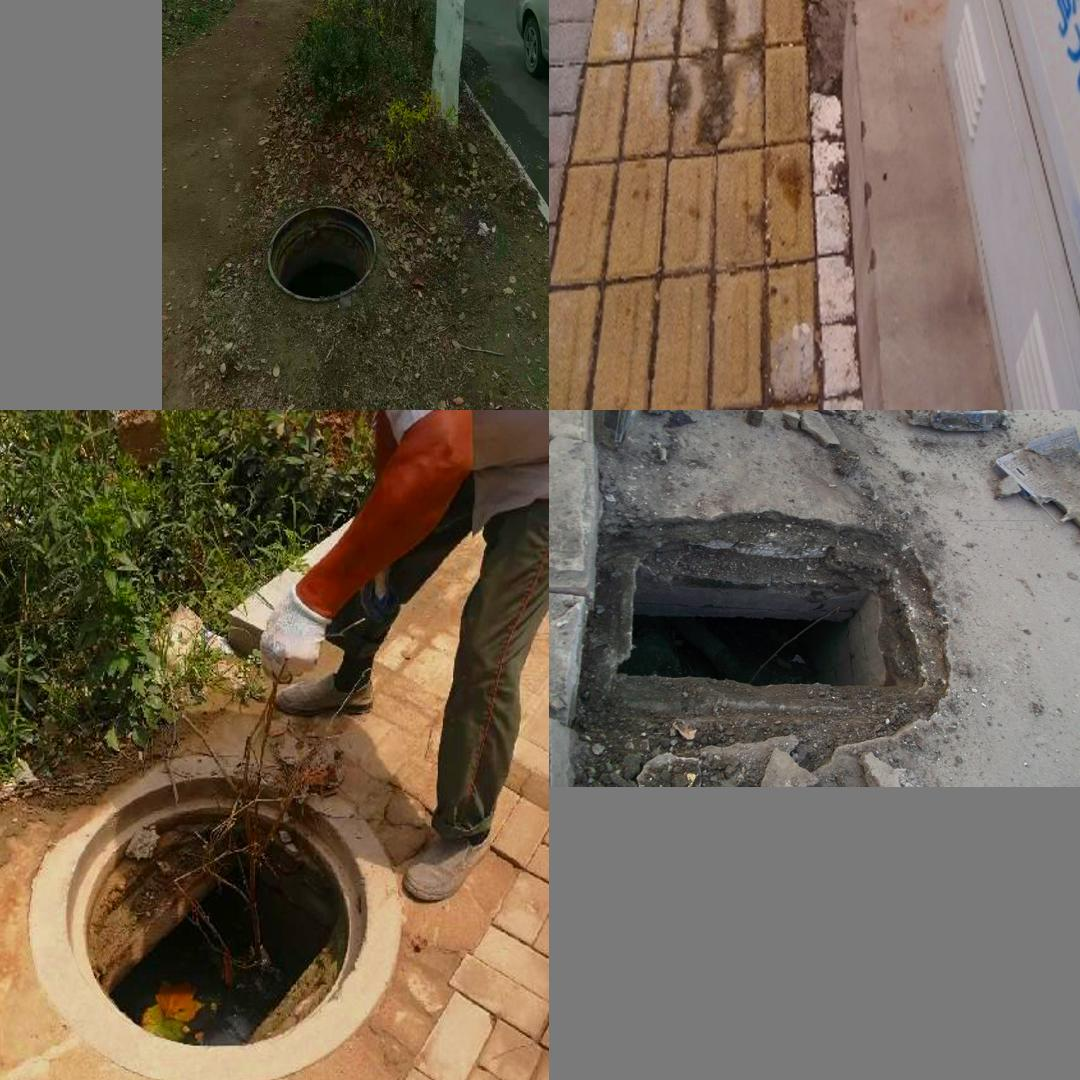lose: (30, 757, 399, 1080), (613, 562, 894, 689), (266, 202, 377, 303)
